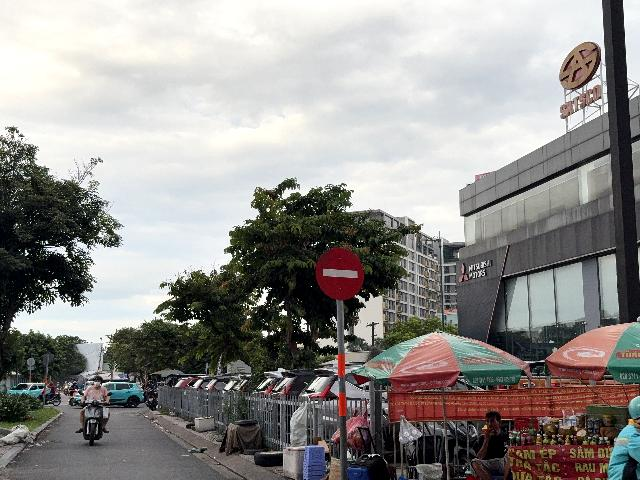cam-di-nguoc-chieu: (316, 248, 363, 300)
